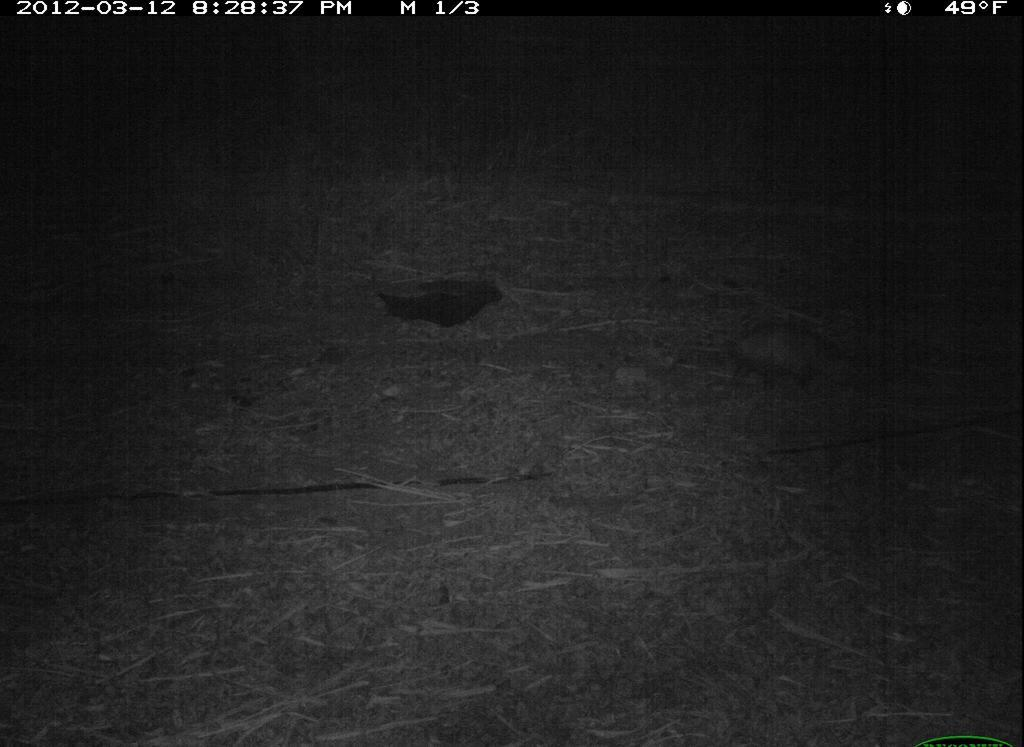opossum: (712, 317, 870, 397)
